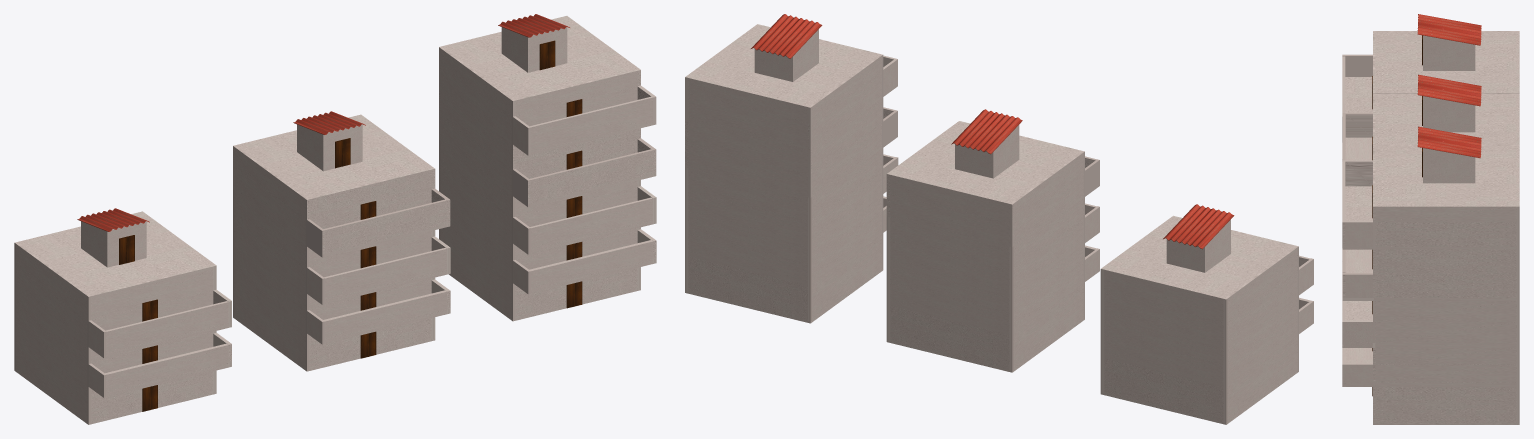
Rendered from house.fbx.
The picture shows the model from 3 angles, left to right: view 1: azimuth 30°, elevation 25°; view 2: azimuth 150°, elevation 25°; view 3: azimuth 270°, elevation 25°; orthographic projection. The views are drawn at different scales.
Visible parts, largest first — view 1: building.002, building.001, building, top shelter with roof.001, top shelter with roof.002, top shelter with roof, top roof, top roof.001, top roof.002; view 2: building.002, building.001, building, top shelter with roof.001, top shelter with roof, top shelter with roof.002, top roof.001, top roof.002, top roof; view 3: building.002, building, building.001, top shelter with roof.002, top shelter with roof, top shelter with roof.001, top roof, top roof.001, top roof.002.
Boxes of the visible parts, x1,y1,x2,y2 form: building.002: (439,16,656,321); building.001: (233,114,450,371); building: (14,211,231,424); top shelter with roof.001: (297,124,362,171); top shelter with roof.002: (501,27,567,72); top shelter with roof: (81,221,146,267); top roof: (77,208,149,231); top roof.001: (293,111,365,134); top roof.002: (498,14,569,37); building.002: (685,24,898,323); building.001: (886,121,1099,372); building: (1100,215,1313,424); top shelter with roof.001: (955,125,1019,178); top shelter with roof: (1166,219,1230,272); top shelter with roof.002: (754,29,818,81); top roof.001: (951,109,1022,154); top roof.002: (751,14,822,58); top roof: (1163,204,1234,249); building.002: (1342,144,1519,424); building: (1342,31,1519,159); building.001: (1342,93,1519,259); top shelter with roof.002: (1423,148,1475,183); top shelter with roof: (1423,35,1475,70); top shelter with roof.001: (1423,96,1475,132); top roof: (1417,14,1481,45); top roof.001: (1417,74,1481,106); top roof.002: (1417,126,1481,158).
Bounding box in the file's own units: 12929 × 5809 × 3623.
